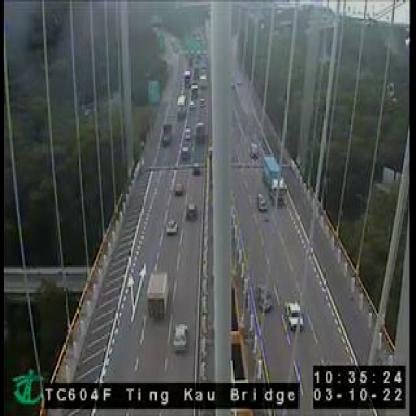Car: (283, 302, 303, 328), (253, 282, 273, 308), (172, 322, 188, 352), (256, 194, 268, 213), (186, 201, 195, 218), (166, 216, 176, 231), (250, 140, 258, 154), (181, 146, 187, 160), (183, 126, 190, 137), (176, 182, 180, 194), (189, 100, 195, 108), (199, 97, 204, 104)
Truck: (261, 156, 285, 206), (148, 271, 168, 318), (161, 121, 172, 144), (177, 94, 186, 116), (190, 84, 198, 96)
